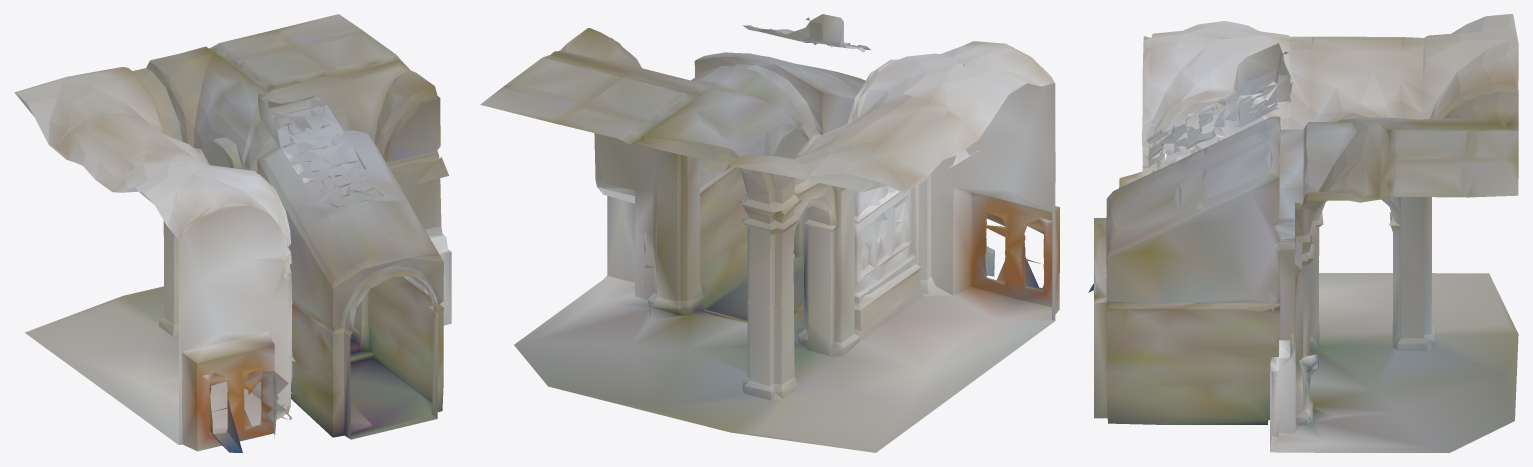
3 renders of one model, left to right at view 1: azimuth 30°, elevation 25°; view 2: azimuth 150°, elevation 25°; view 3: azimuth 270°, elevation 25°, orthographic. The views are drawn at different scales.
Size of the model in its own units: 10.21 by 8.39 by 10.14.
